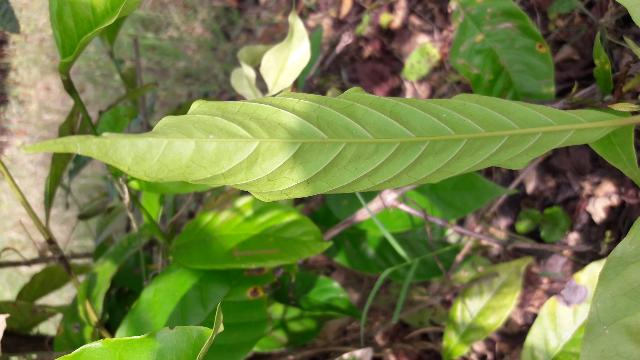healthy: (13, 87, 626, 202)
